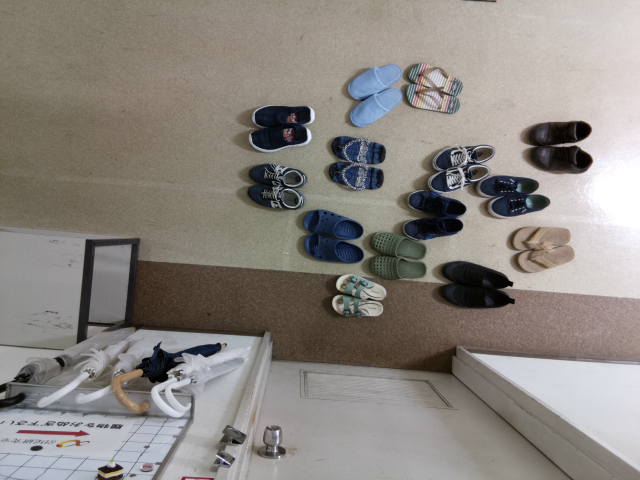Copy of Copy of Copy of Copy of Copy of Copy of Copy of Copy of Copy of Copy of: (435, 254, 517, 299), (515, 105, 597, 148), (398, 50, 471, 97), (434, 278, 517, 318), (338, 57, 409, 102), (342, 82, 408, 128), (523, 140, 599, 178), (483, 190, 557, 227), (472, 169, 546, 206), (425, 136, 499, 173), (421, 157, 495, 194), (398, 187, 472, 224), (396, 209, 470, 246), (362, 250, 436, 287), (399, 77, 465, 118), (511, 241, 584, 278), (504, 220, 577, 257), (359, 227, 432, 264)
Copy of Copy of Copy of Copy of Copy of Copy of Copy of Copy of Copy of shoe: (325, 290, 389, 324)
Copy of Copy of Copy of Copy of Copy of Copy of Copy of Copy of shoe: (330, 266, 389, 303)
Copy of Copy of Copy of Copy of Copy of Copy of Copy of shoe: (292, 229, 365, 271)
Copy of Copy of Copy of Copy of Copy of Copy of shoe: (295, 202, 368, 244)
Copy of Copy of Copy of Copy of Copy of shoe: (319, 160, 391, 194)
Copy of Copy of Copy of Copy of shoe: (323, 133, 396, 165)
Copy of Copy of Copy of shoe: (236, 181, 309, 212)
Copy of Copy of shoe: (239, 158, 312, 189)
Copy of shoe: (241, 120, 313, 151)
shoe: (246, 97, 319, 128)
umbrella: (1, 321, 141, 409), (108, 335, 230, 417), (36, 323, 144, 413), (141, 340, 257, 417), (67, 324, 161, 414), (163, 351, 259, 419)
